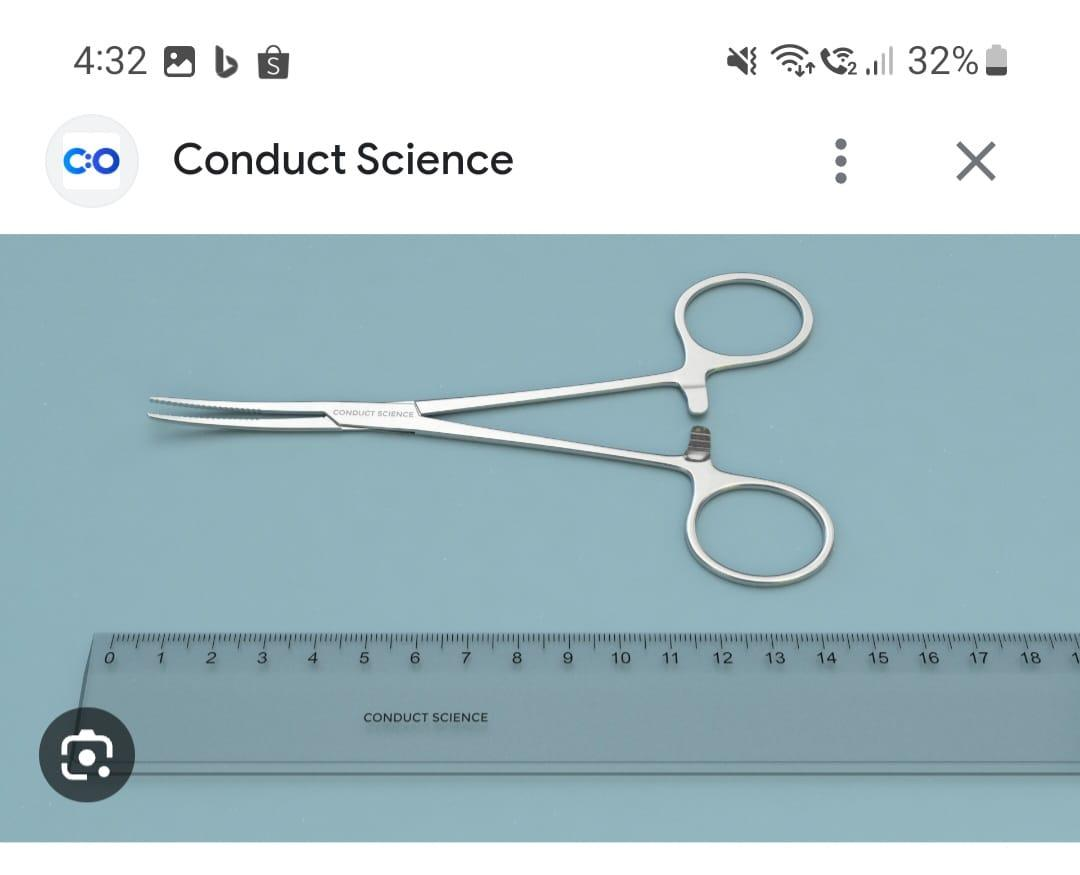Artery Forceps: (154, 272, 835, 590)
